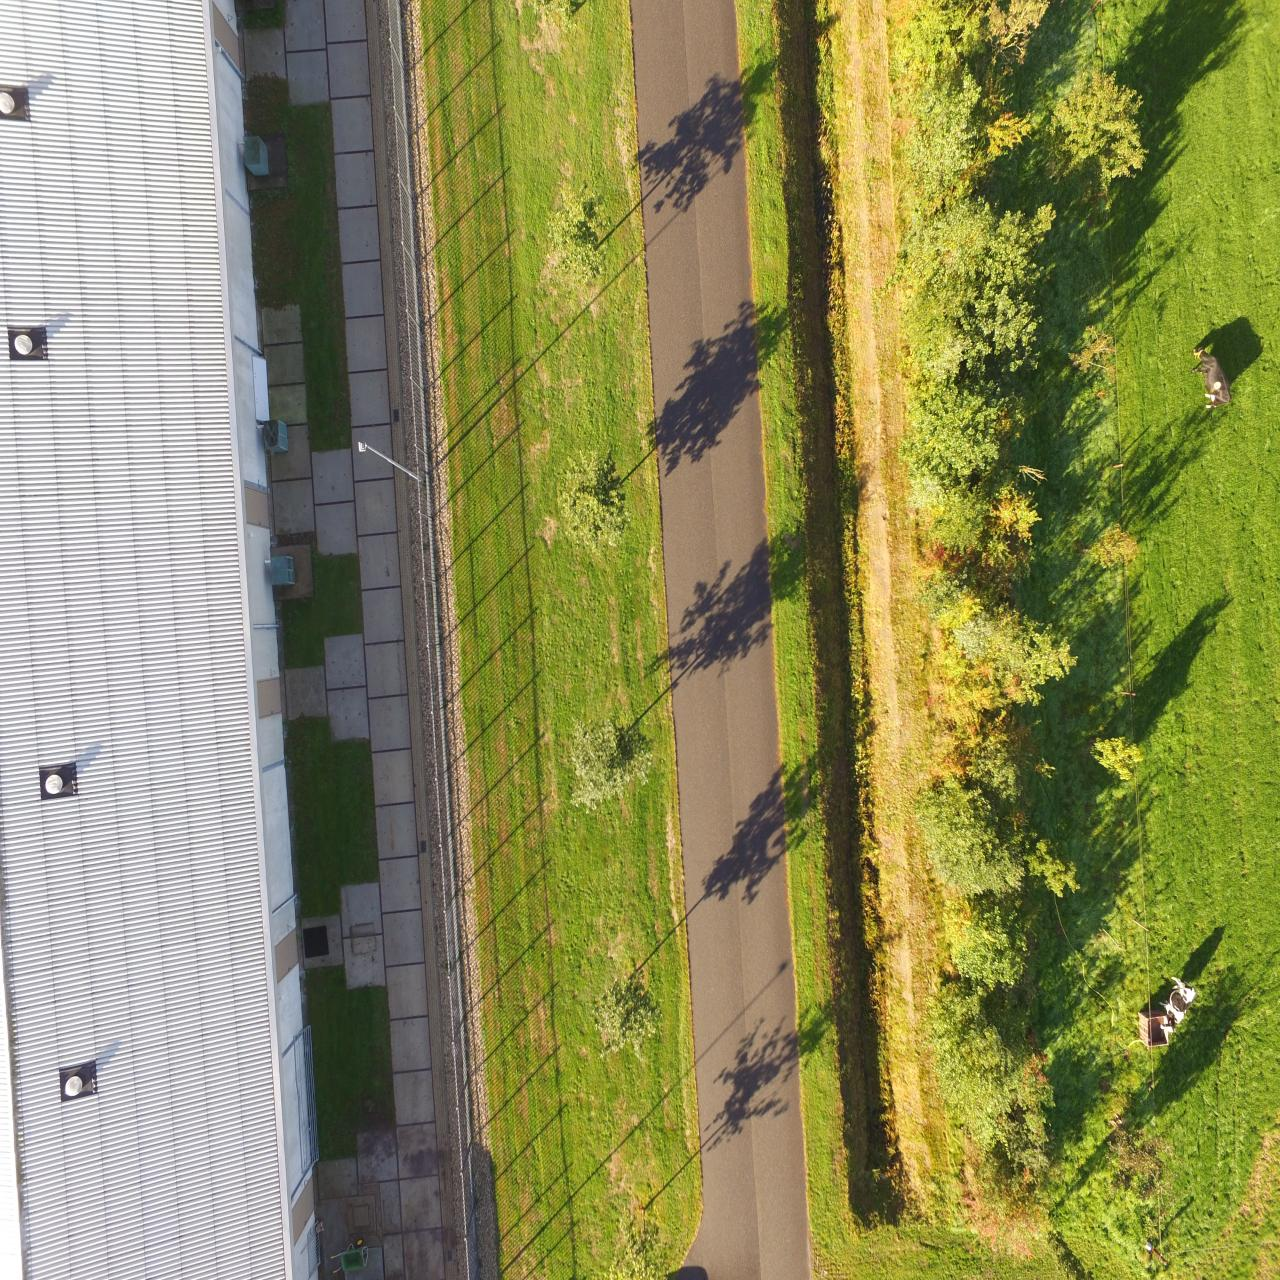cow: (1188, 342, 1235, 414), (1157, 972, 1198, 1031)
